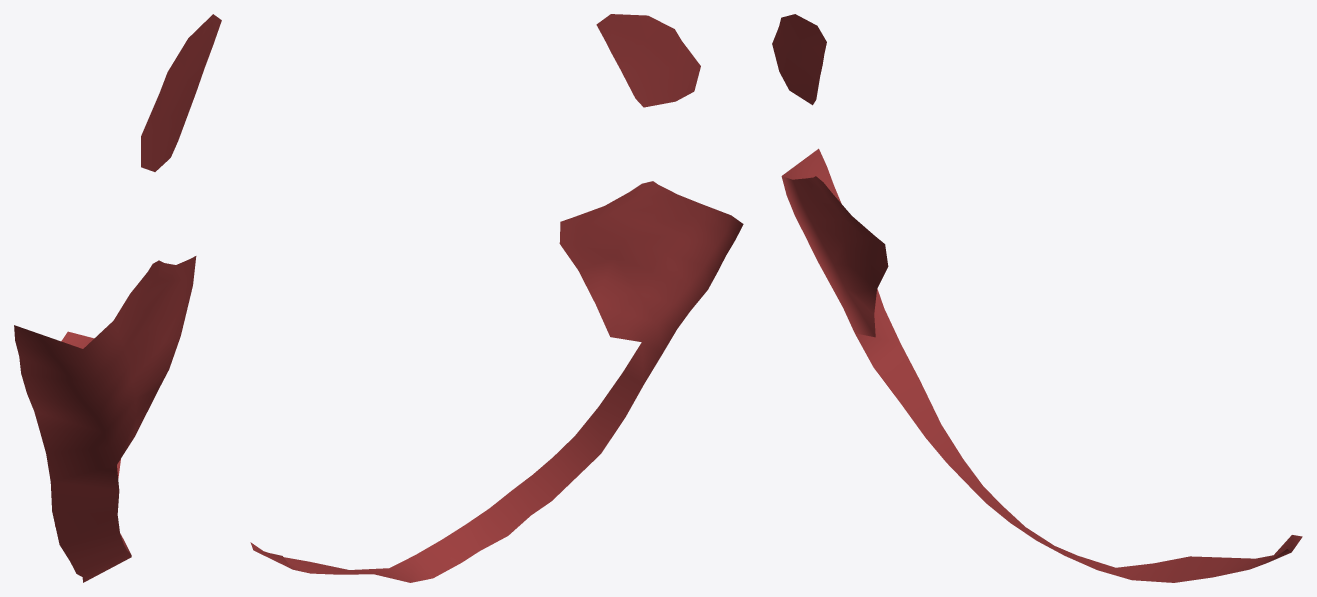
File: internal-abdominal-oblique-muscle-o1l.glb
3 views of the same model, side by side, from view 1: azimuth 30°, elevation 25°; view 2: azimuth 150°, elevation 25°; view 3: azimuth 270°, elevation 25° (orthographic). The views are drawn at different scales.
Visible parts, largest first — view 1: Internal abdominal oblique muscle.o1l; view 2: Internal abdominal oblique muscle.o1l; view 3: Internal abdominal oblique muscle.o1l.
Part boxes in pixels (x1,y1,x2,y2): Internal abdominal oblique muscle.o1l: (14, 14, 221, 582); Internal abdominal oblique muscle.o1l: (250, 14, 743, 582); Internal abdominal oblique muscle.o1l: (772, 14, 1302, 582).
Bounding box in the file's own units: 0.0513 × 0.0834 × 0.0772.
